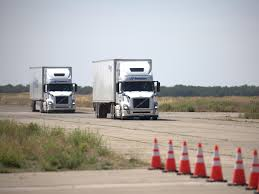truck: (91, 58, 159, 120), (27, 65, 78, 112)
